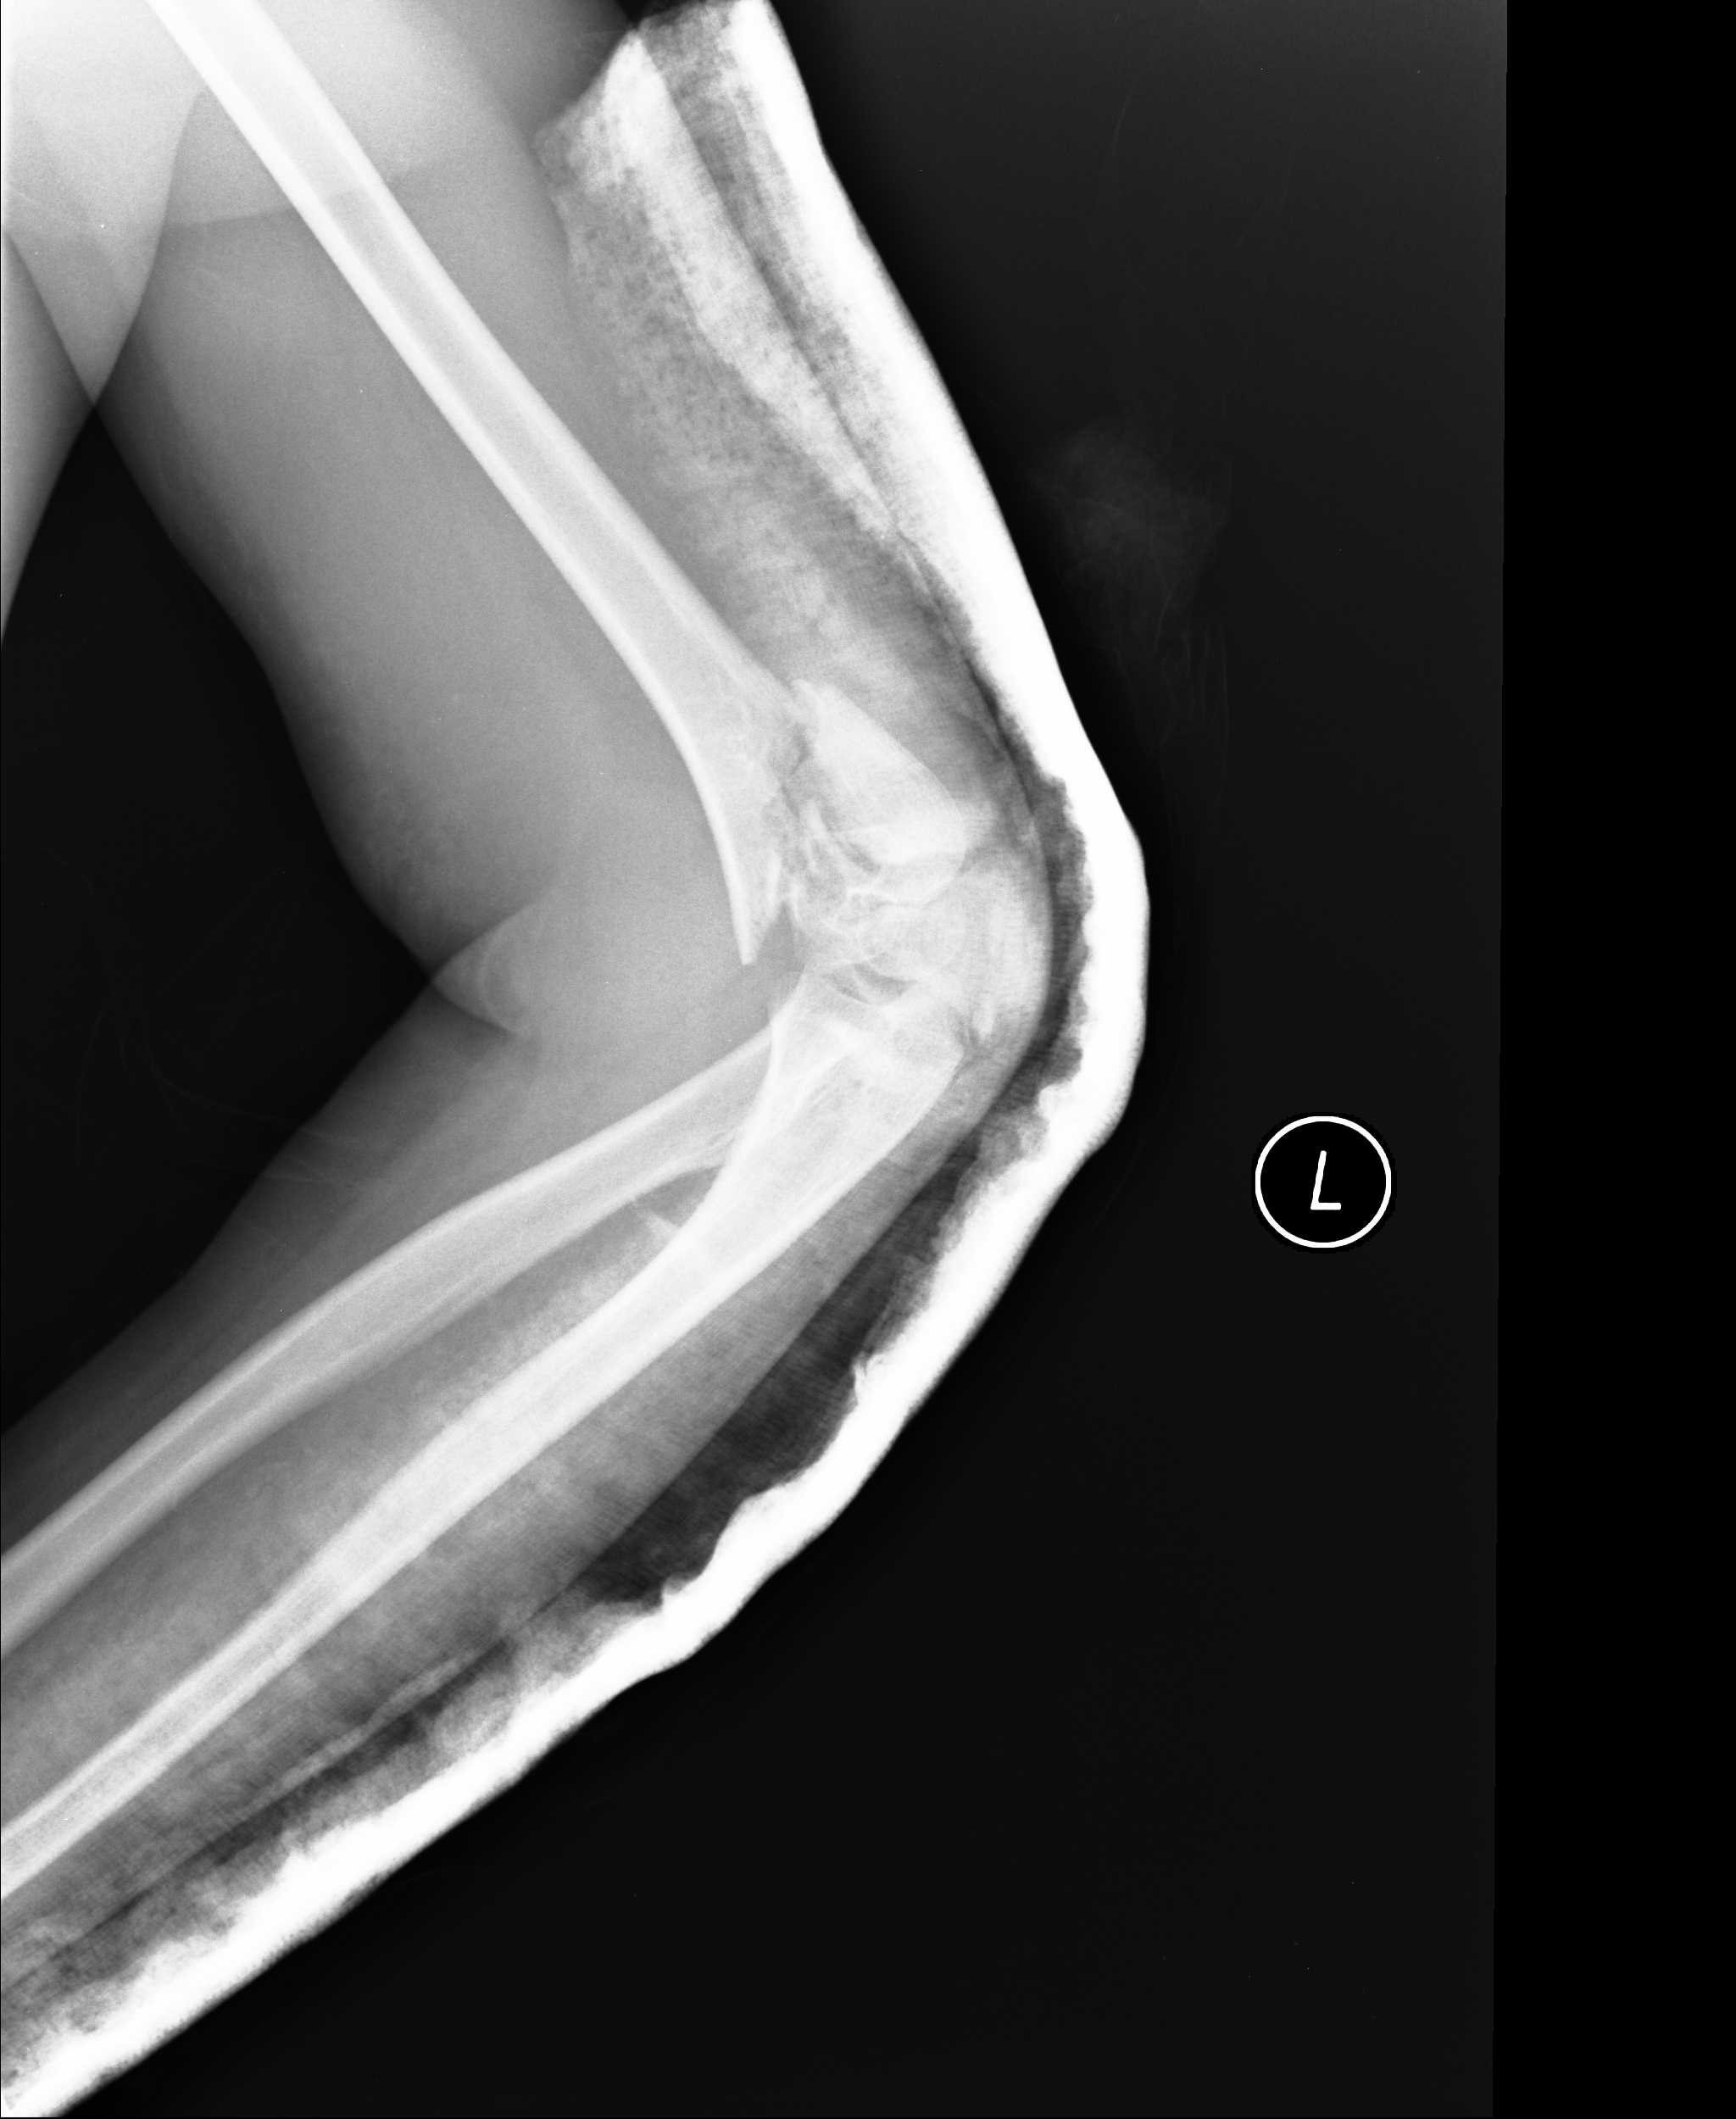SCF type 2: (241, 336, 1447, 1415)
